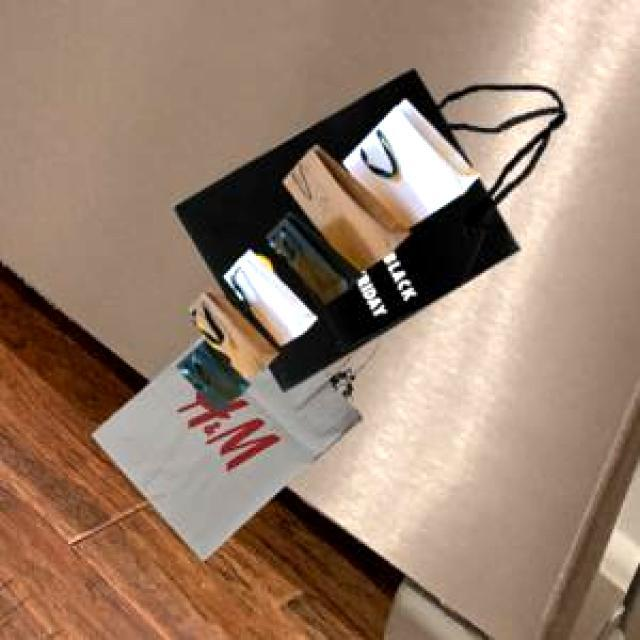Paper_Bag: (172, 64, 562, 390), (174, 97, 477, 411), (89, 332, 358, 558)
